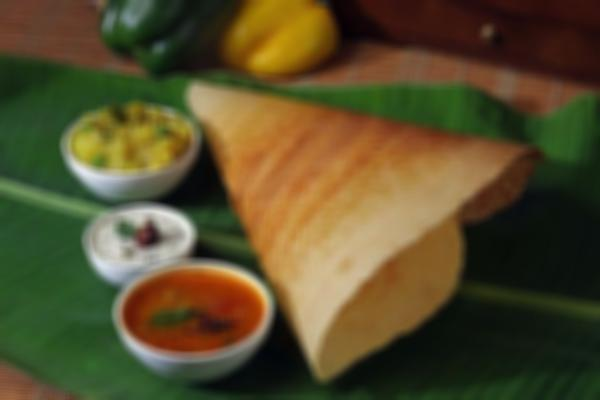dosa: (181, 77, 544, 382)
